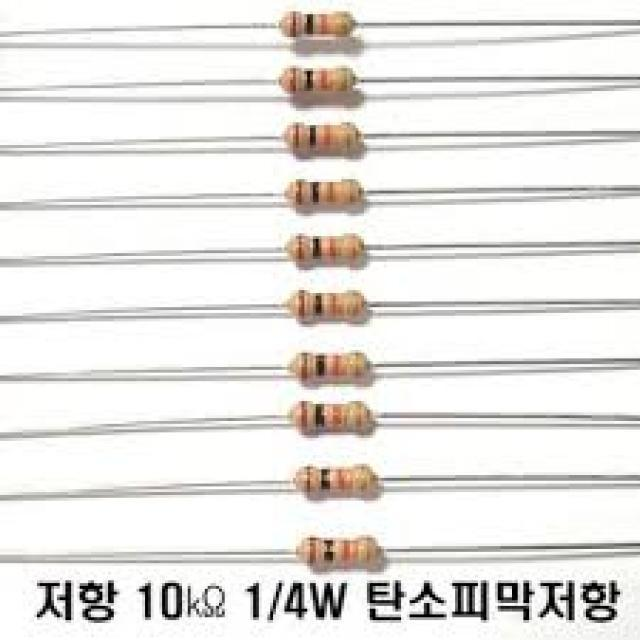Resistor Carbon-Film: (289, 461, 382, 498), (294, 534, 386, 570), (281, 118, 368, 156), (278, 4, 358, 44), (288, 348, 372, 384), (282, 230, 370, 264), (288, 400, 376, 434), (283, 178, 367, 212), (286, 290, 372, 323), (277, 65, 362, 98)
